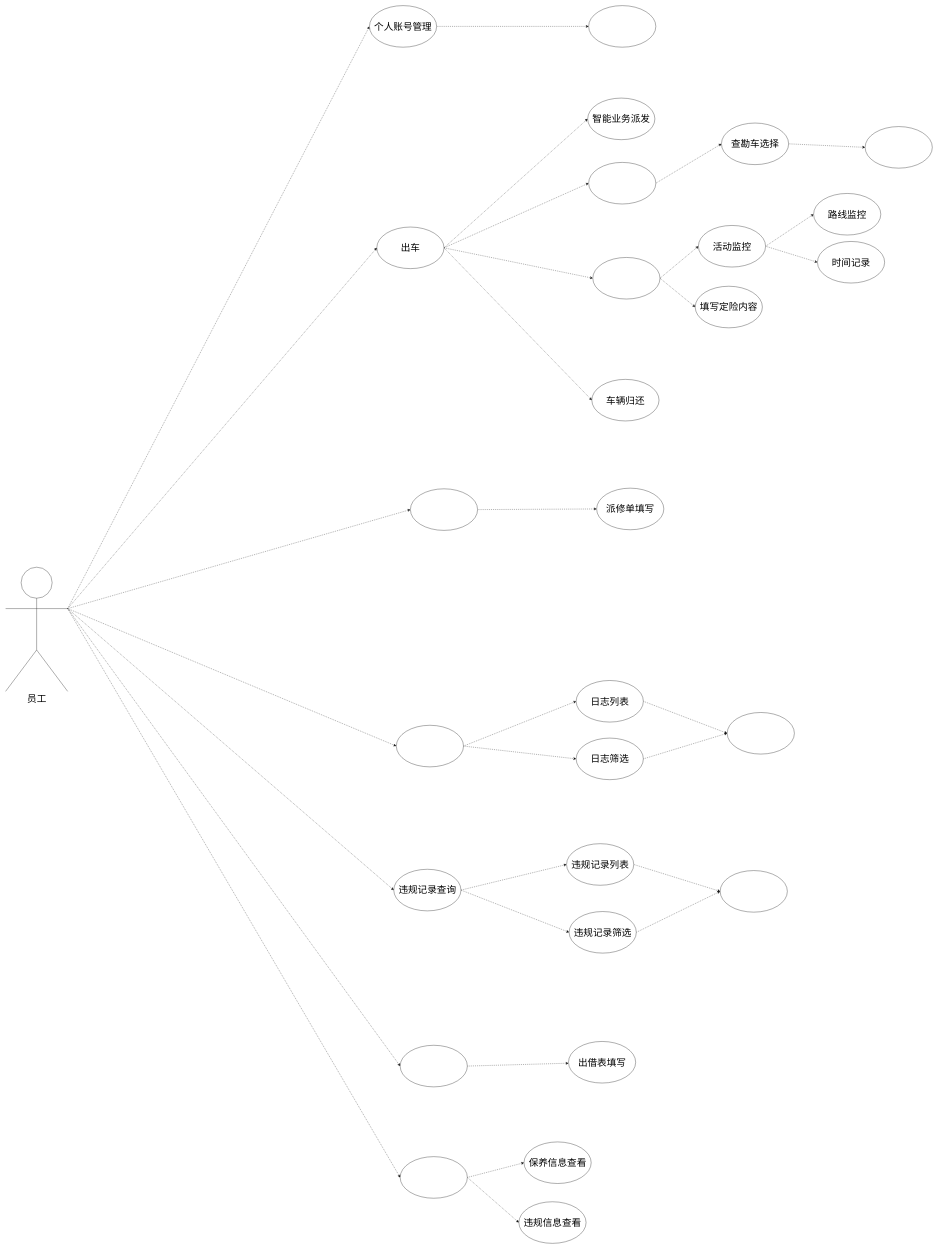
This 938x1249 diagram has some shape labels left out. The shapes that lost their labels are listed below. From the top down, each one's centre as x and y in pixels, then its label:
At point (622, 26): "个人状态切换".
At point (898, 147): "路线选择".
At point (622, 183): "派车单填写".
At point (626, 278): "日志生成".
At point (444, 509): "车辆报修".
At point (430, 746): "行车日志".
At point (760, 733): "日志具体查看".
At point (753, 891): "违规记录具体查看".
At point (433, 1066): "车辆出借申请 %".
At point (433, 1177): "通知查看".
